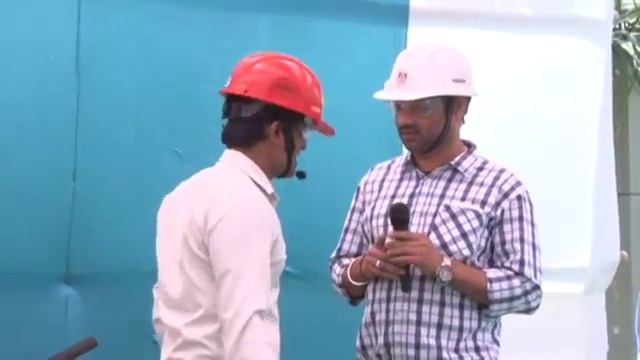helmet: (219, 48, 336, 137), (370, 41, 482, 102)
helmet_on: (218, 49, 338, 184), (367, 40, 483, 172)
person: (329, 41, 546, 360), (149, 49, 338, 360)
